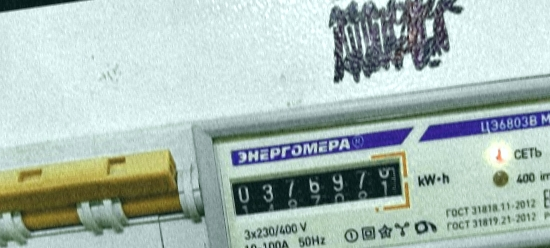0: (235, 184, 251, 206)
1: (378, 179, 391, 199)
3: (259, 183, 275, 204)
6: (306, 173, 321, 196)
7: (282, 178, 298, 200), (353, 169, 368, 192)
9: (330, 172, 344, 194)
screen: (220, 146, 417, 235)
